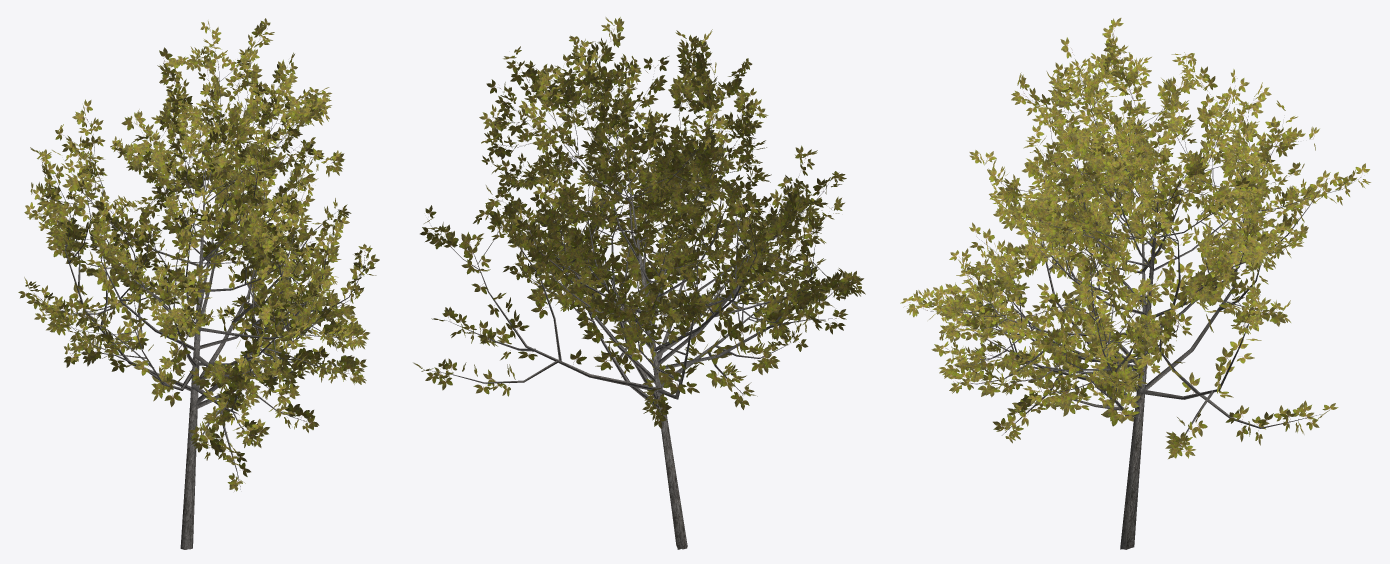
File: Tree.FBX
3 views of the same model, side by side, from view 1: azimuth 30°, elevation 25°; view 2: azimuth 150°, elevation 25°; view 3: azimuth 270°, elevation 25° (orthographic). The views are drawn at different scales.
Visible parts, largest first — view 1: Tree; view 2: Tree; view 3: Tree.
Boxes of the visible parts, box(x1,y1,x2,y2) form: Tree: box(18, 18, 379, 549); Tree: box(413, 17, 865, 549); Tree: box(900, 18, 1370, 549).
Size of the model in its own units: 302 by 375 by 311.
Materials: 2 (2 with a texture image).
